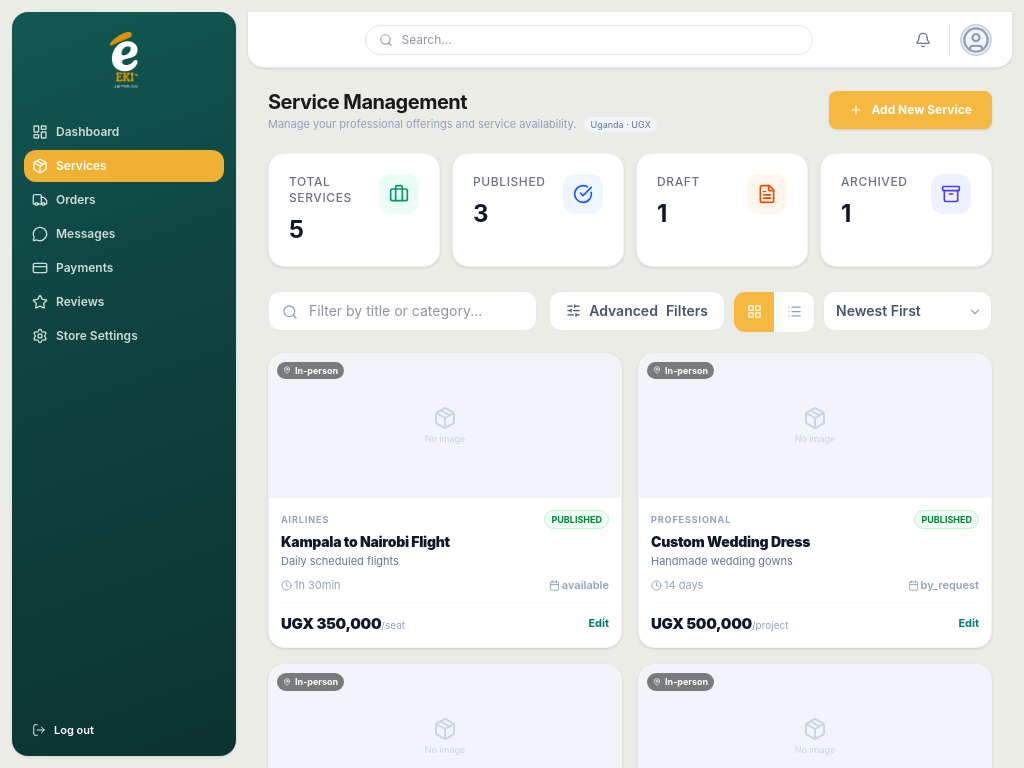
Test: ServiceManagement Page › Search › shows No Services Found for unmatched search
The image size is (1024, 768).
Type "xyznonexistent999" into the field with placeholder "Filter by title or category...". click: (403, 310)
box: [268,290,537,330]
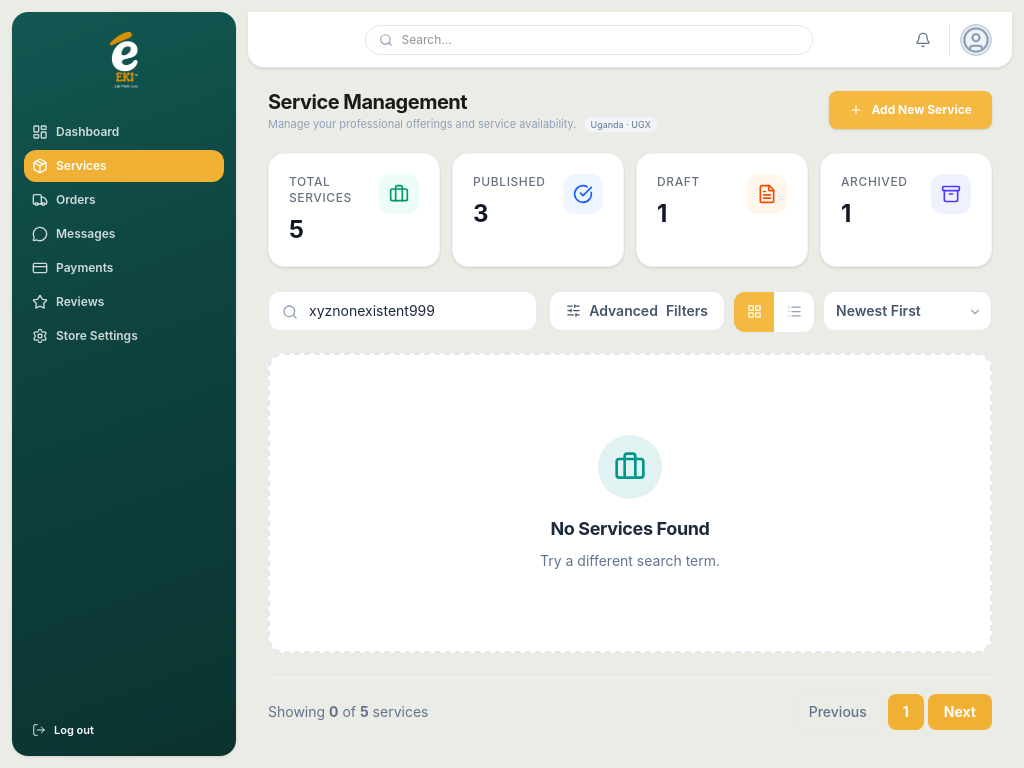
Now the heading "No Services Found" is shown, box [550,518,710,538]
